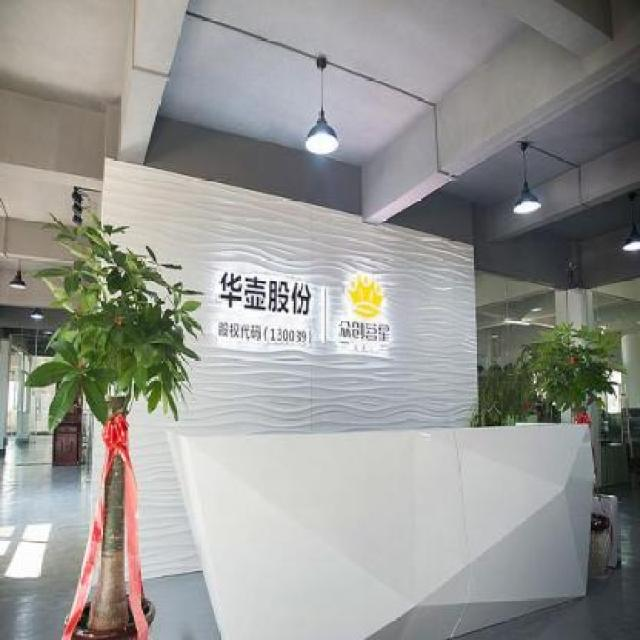frontdesk: (152, 412, 605, 640)
